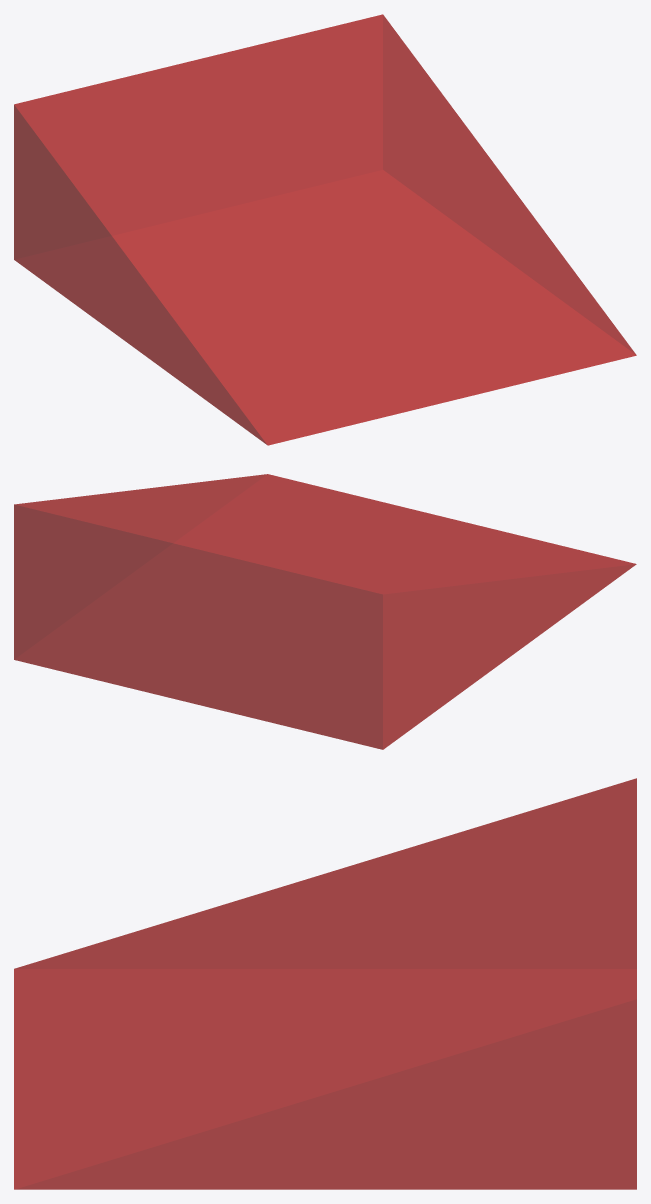
The model's file is SM_Prop_Ramp_Mesh_01_Collision.fbx.
3 views of the same model, one above another, from view 1: azimuth 30°, elevation 25°; view 2: azimuth 150°, elevation 25°; view 3: azimuth 270°, elevation 25° (orthographic). The views are drawn at different scales.
Visible parts, largest first — view 1: SM_Prop_Ramp_Mesh_01_Collision; view 2: SM_Prop_Ramp_Mesh_01_Collision; view 3: SM_Prop_Ramp_Mesh_01_Collision.
Part boxes in pixels (x1,y1,x2,y2): SM_Prop_Ramp_Mesh_01_Collision: (14,14,636,445); SM_Prop_Ramp_Mesh_01_Collision: (14,474,636,749); SM_Prop_Ramp_Mesh_01_Collision: (14,778,636,1189).
Size of the model in its own units: 584 by 235 by 696.
